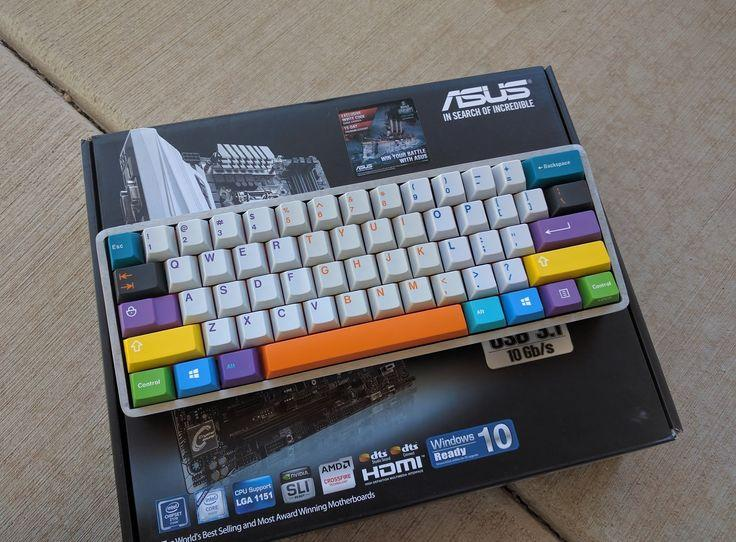keyboard: (94, 143, 628, 420)
